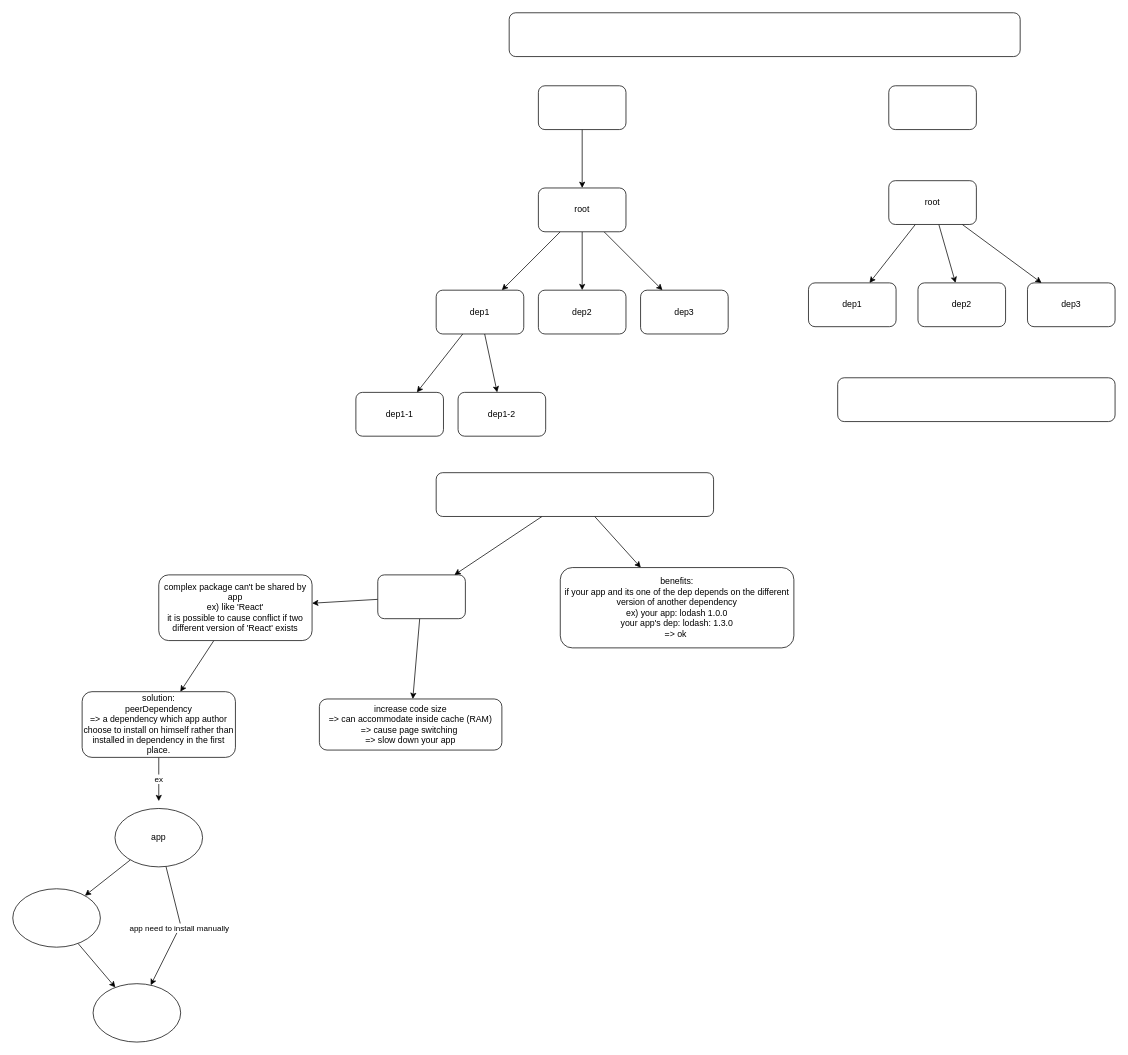
Image size: 1128x1055. Some labels were removed from this diagram. The shapes that lost their labels are listed below. From the top down, each one's centre as x and y in pixels, then its label:
[764,34]: npm dependency management schema is different from other dependency management
[582,107]: npm
[932,107]: other DM tools (flat model)
[976,399]: only one version of any particular package can be installed at a time
[574,494]: it is totally ok to install different version of the same package
[421,596]: drawback
[56,917]: dep
[136,1012]: peerDependency
